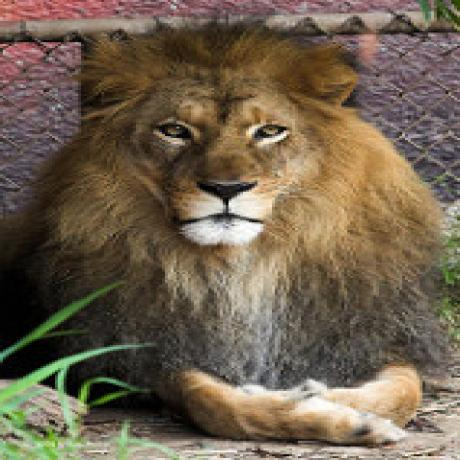Lion: (2, 21, 449, 446)
